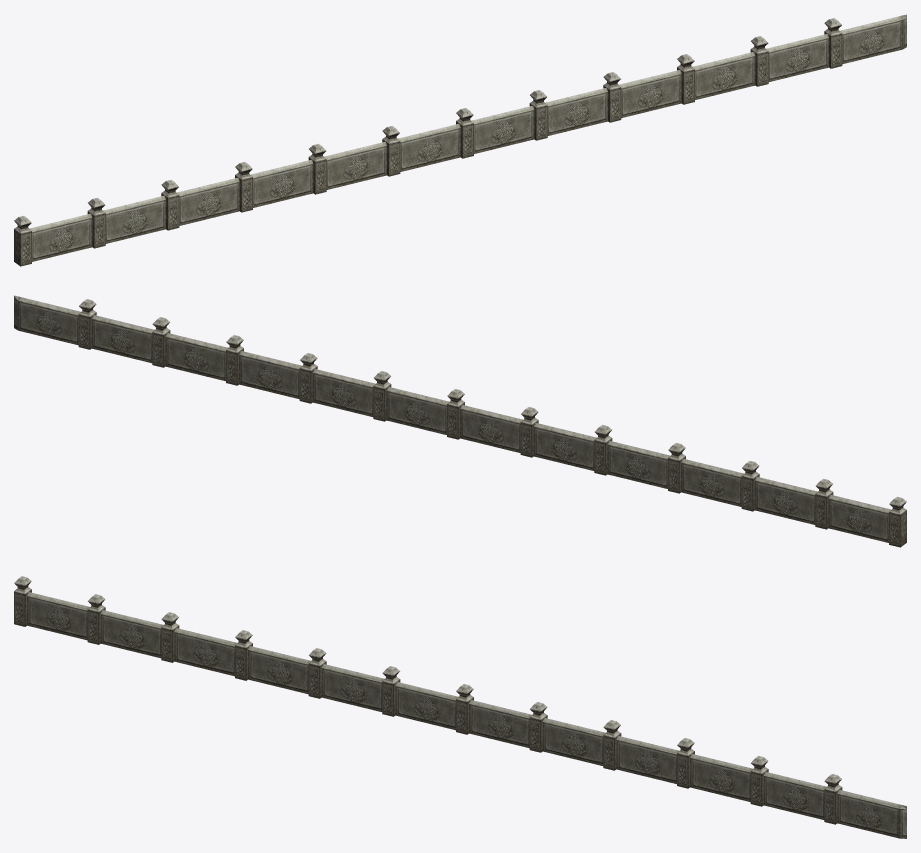
File: secret_fence_03.fbx
3 renders of one model, top to bottom at view 1: azimuth 30°, elevation 25°; view 2: azimuth 150°, elevation 25°; view 3: azimuth 330°, elevation 25°, orthographic.
Parts seen in each view (by area): view 1: secret_fence_03; view 2: secret_fence_03; view 3: secret_fence_03.
Boxes of the visible parts, bbox=[...] form: secret_fence_03: bbox=[14, 14, 906, 266]; secret_fence_03: bbox=[14, 295, 906, 547]; secret_fence_03: bbox=[14, 576, 906, 838].
Bounding box in the file's own units: 24.15 × 1.18 × 0.3111.
